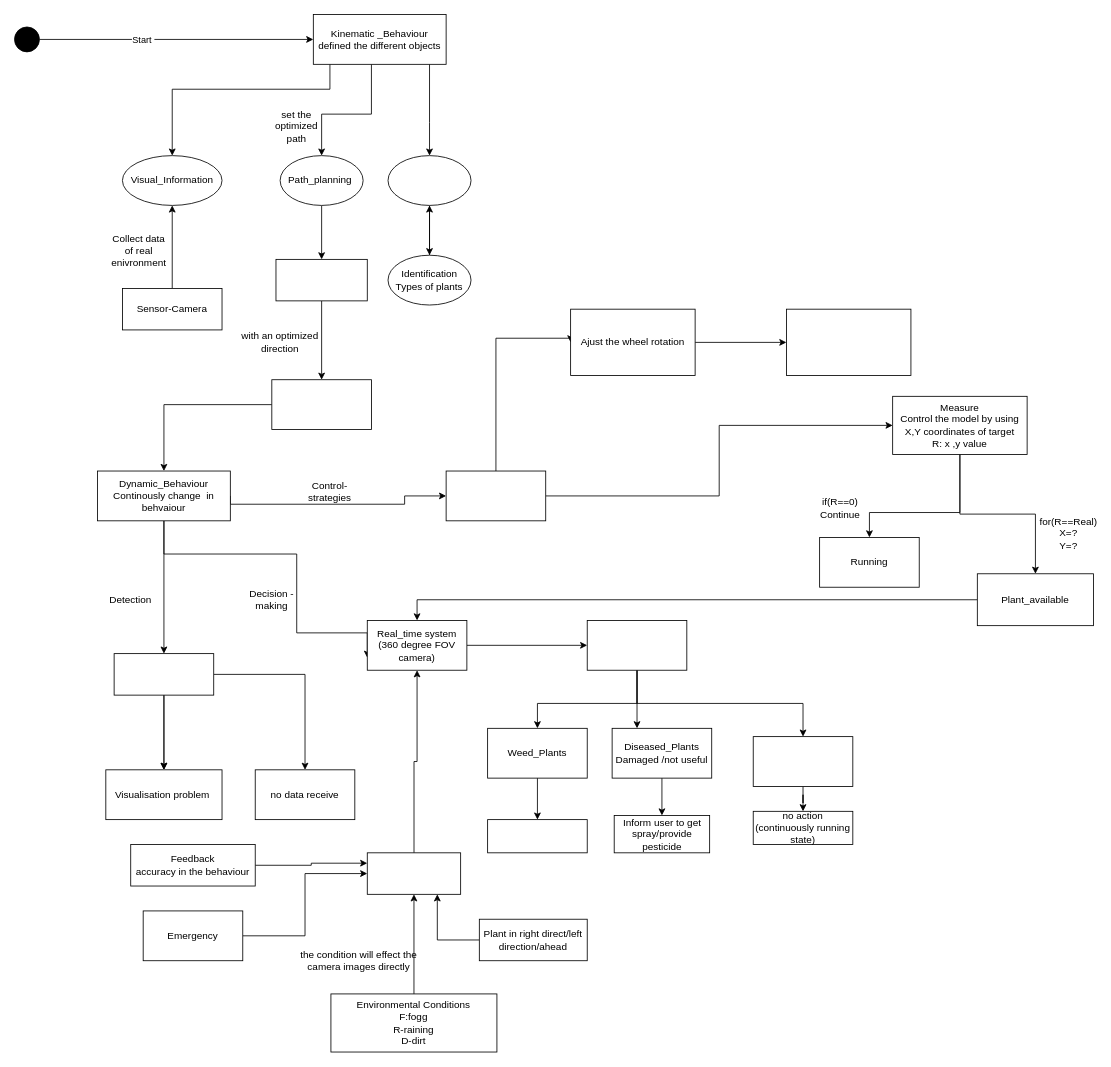
This 1111x1067 diagram has some shape labels left out. Each missing label, with the box of its shape:
Control: (445, 470, 546, 521)
Healthy_Plants: (752, 736, 853, 786)
image classification: (586, 620, 687, 670)
Obstacle: (113, 653, 214, 695)
Path_adapt: (271, 379, 371, 430)
Reactive_Behaviour: (366, 852, 461, 894)
Remove weed plant from field: (487, 819, 587, 853)
Road_directions: (275, 259, 367, 301)
RPosition: (387, 155, 471, 205)
Speed (D=VXT) D:distance V:velocity T:time: (786, 308, 911, 376)
